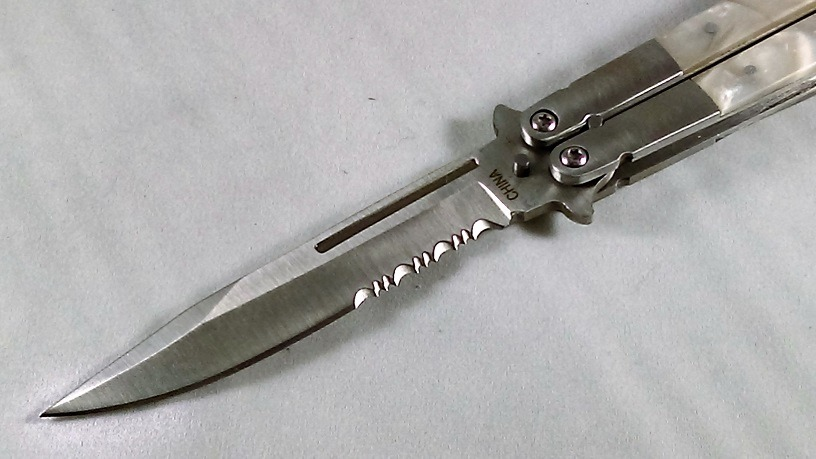knife: (35, 0, 816, 418)
